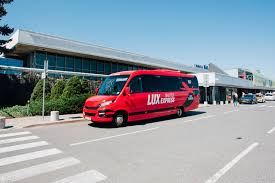bus: (83, 68, 201, 127)
